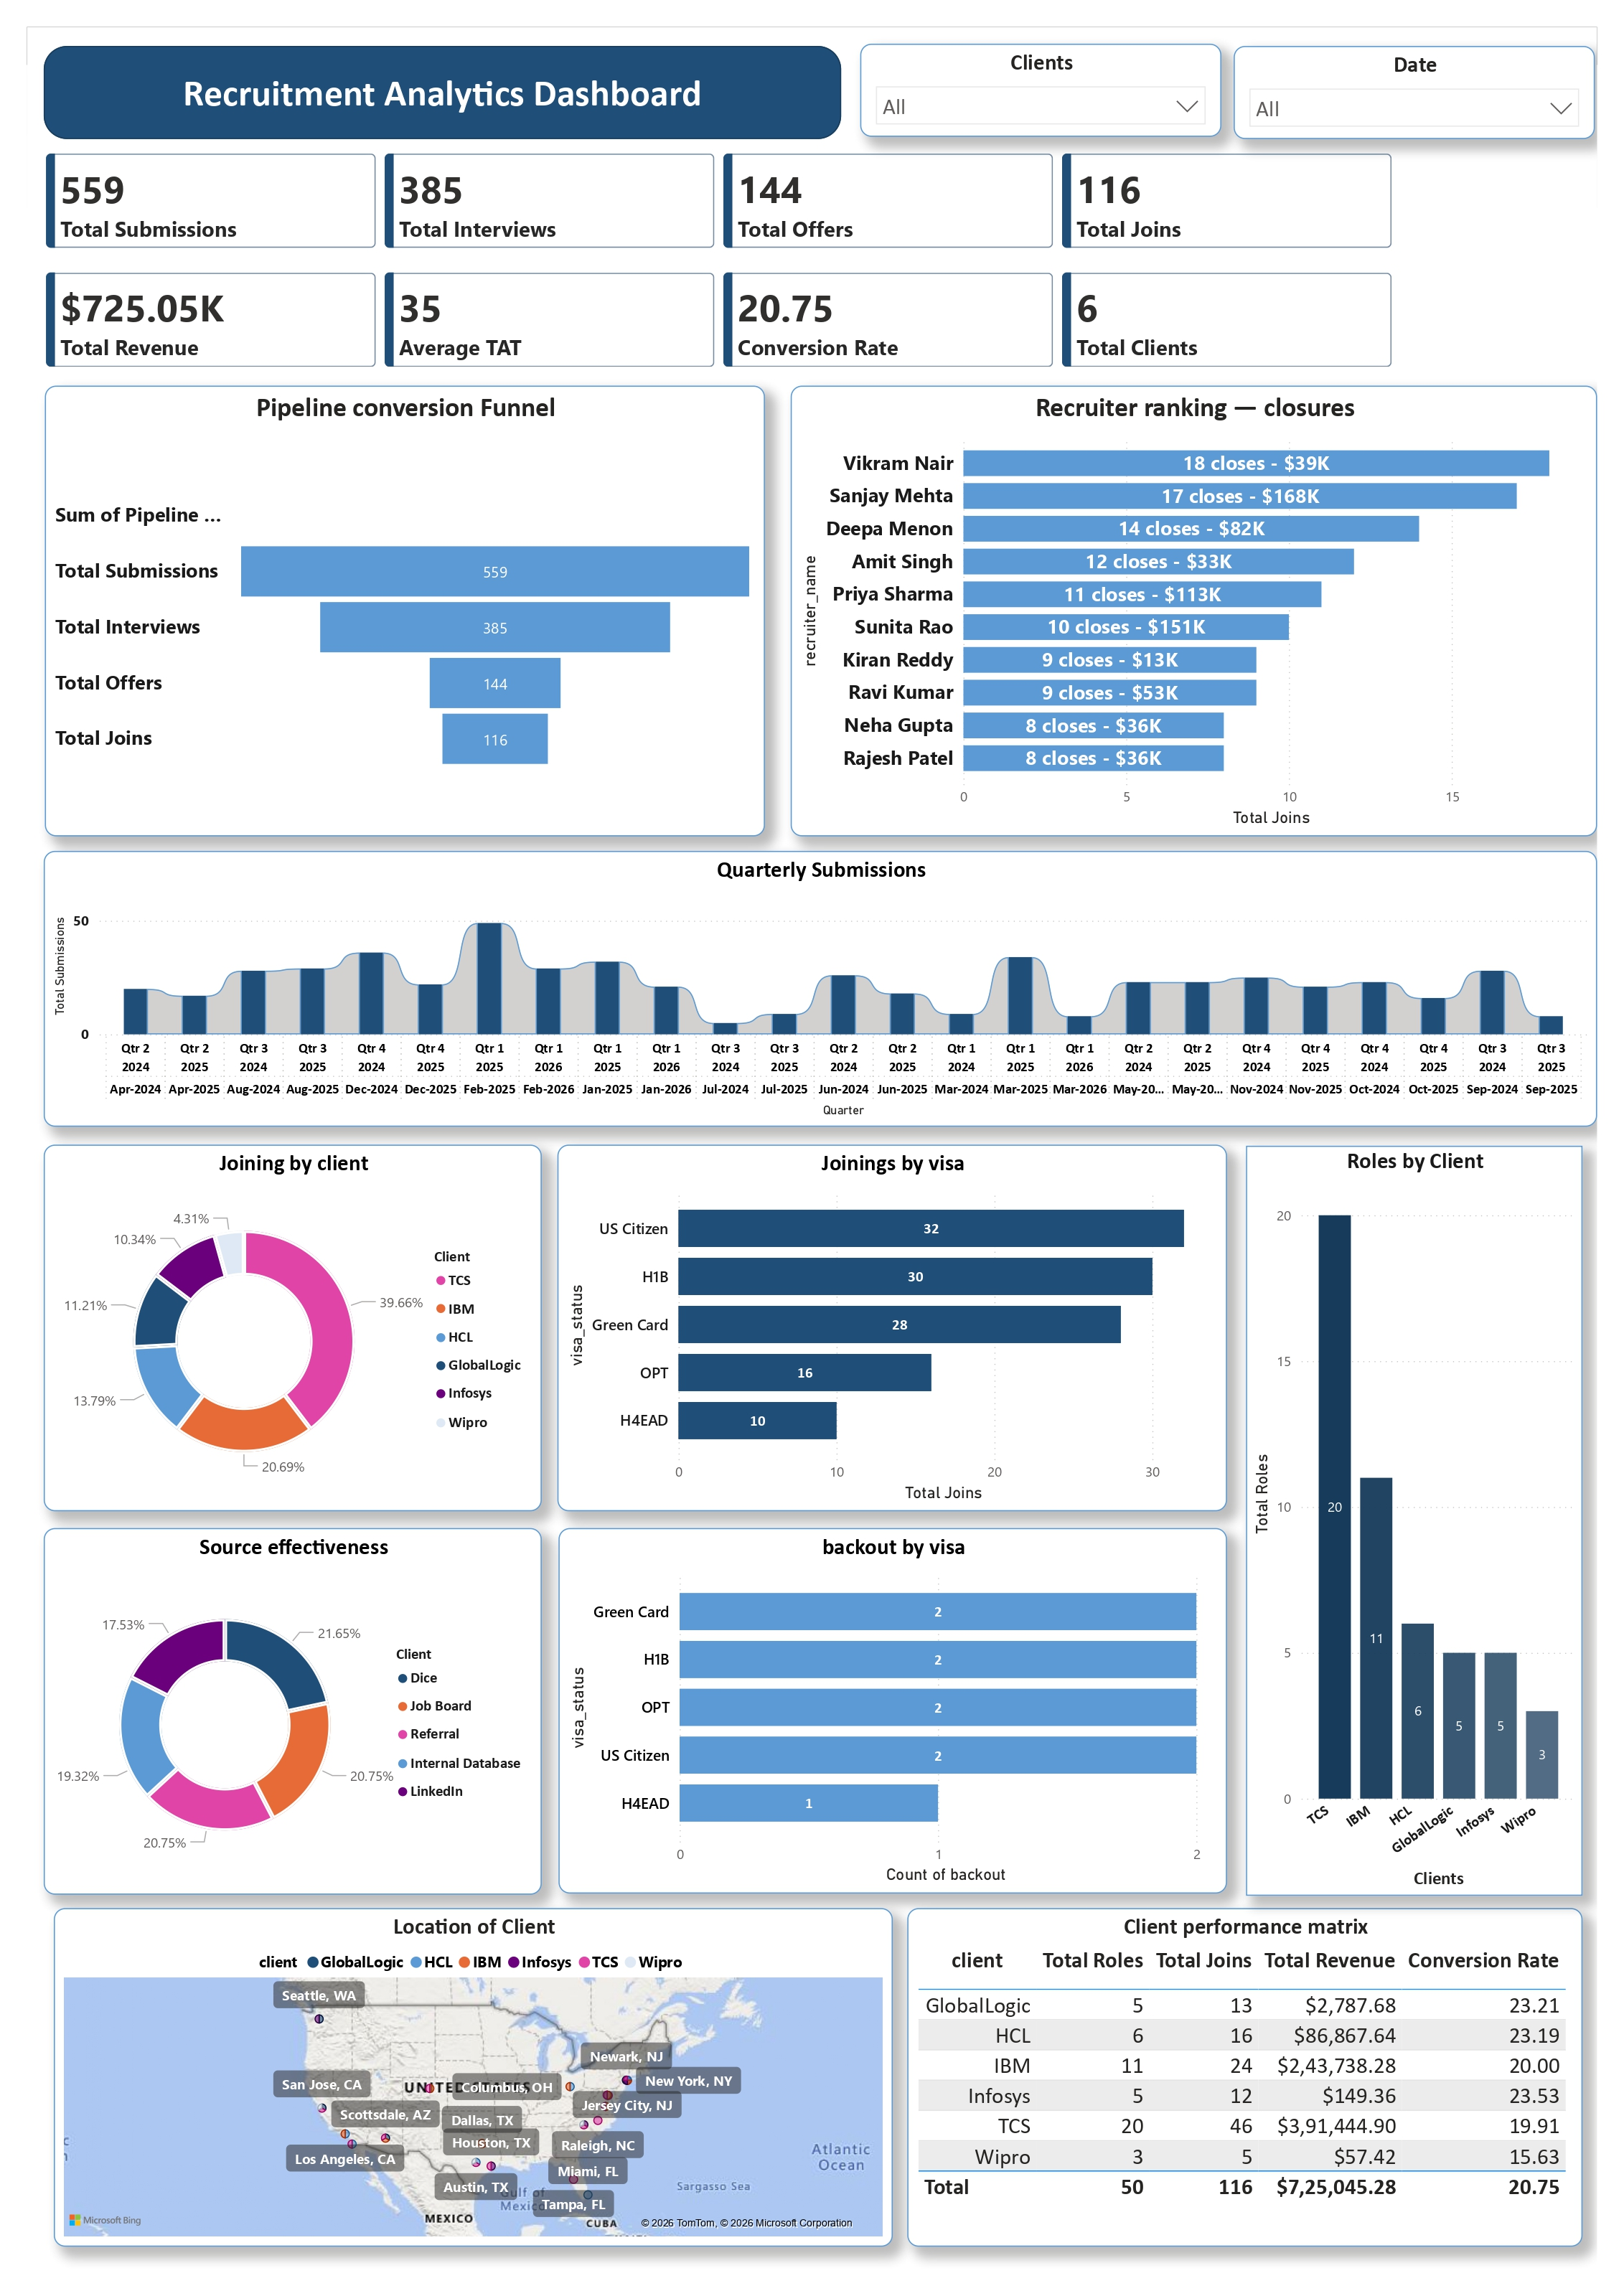

Layout of this report page (visuals, bound fields, positions):
{"tool":"powerbi","page":{"name":"Page 1","canvas":[1400,2000],"ordinal":0},"visuals":[{"type":"cardVisual","fields":{"Data":["Date_Table.Total Submissions","Date_Table.Total Interviews","Date_Table.Total Offers","Date_Table.Total Joins"]},"box":[0,96.3,1237,118.5],"z":0},{"type":"cardVisual","fields":{"Data":["Date_Table.Total Revenue","Date_Table.Average TAT","Date_Table.Conversion Rate","Count(client.client)"]},"box":[0,201.9,1237,118.5],"z":1000},{"type":"funnel","title":"Pipeline conversion Funnel","fields":{"Y":["Sum(Pipeline_Stages.Pipeline Value)","Date_Table.Total Submissions","Date_Table.Total Interviews","Date_Table.Total Offers","Date_Table.Total Joins"]},"box":[15.5,320.1,642.1,401.5],"z":2000},{"type":"clusteredBarChart","title":"Recruiter ranking — closures","fields":{"Y":["Date_Table.Total Joins"],"Category":["recruiter.recruiter_name"]},"box":[680.9,320.1,719.6,401.5],"z":3000},{"type":"ribbonChart","title":"Quarterly Submissions","fields":{"Y":["Date_Table.Total Submissions"],"Category":["candidates_pool.submission_month","Date_Table.Date.Variation.Date Hierarchy.Year","Date_Table.Date.Variation.Date Hierarchy.Quarter"]},"box":[14.8,735.2,1385.2,246.3],"z":4000},{"type":"donutChart","title":"Joining by client","fields":{"Category":["client.client"],"Y":["Date_Table.Total Joins"]},"box":[15.2,997.5,444.3,326.6],"z":5000},{"type":"donutChart","title":"Source effectiveness","fields":{"Y":["Date_Table.Total Submissions"],"Category":["candidates_pool.source"]},"box":[15.2,1339.2,444.3,326.6],"z":6000},{"type":"clusteredBarChart","title":"Joinings by visa","fields":{"Category":["candidates_pool.visa_status"],"Y":["Date_Table.Total Joins"]},"box":[473.4,997.5,596.2,326.6],"z":7000},{"type":"clusteredBarChart","title":"backout by visa","fields":{"Category":["candidates_pool.visa_status"],"Y":["Count(candidates_pool.backout)"]},"box":[474.1,1338.9,596.3,325.9],"z":8000},{"type":"map","title":"Location of Client","fields":{"Series":["client.client"],"Category":["jobs.job_location"]},"box":[24.1,1677.8,748.1,301.9],"z":9000},{"type":"tableEx","title":"Client performance matrix","fields":{"Values":["client.client","Date_Table.Total Roles","Date_Table.Total Joins","Date_Table.Total Revenue","Date_Table.Conversion Rate"]},"box":[785.2,1677.8,601.9,301.9],"z":10000},{"type":"columnChart","title":"Roles by Client","fields":{"Category":["client.client"],"Y":["Date_Table.Total Roles"]},"box":[1087,998.1,300,668.5],"z":11000},{"type":"slicer","title":"Clients","fields":{"Values":["client.client"]},"box":[742.6,14.8,322.2,83.3],"z":12000},{"type":"slicer","title":"Date","fields":{"Values":["Date_Table.Year","Date_Table.Month"]},"box":[1075.9,16.7,322.2,83.3],"z":13000},{"type":"shape","box":[14.8,16.7,711.1,83.3],"z":14000}]}

Visuals, with their boxes on the page's 1400x2000 design canvas (x1, y1, x2, y2). These are canvas units, not pixel positions in the 1624x2296 screenshot, which may show the page scaled, cropped or inside an application window:
cardVisual - Date_Table.Total Submissions x Date_Table.Total Interviews: <bbox>0, 96, 1237, 215</bbox>
cardVisual - Date_Table.Total Revenue x Date_Table.Average TAT: <bbox>0, 202, 1237, 320</bbox>
"Pipeline conversion Funnel" funnel: <bbox>16, 320, 658, 722</bbox>
"Recruiter ranking — closures" clusteredBarChart: <bbox>681, 320, 1400, 722</bbox>
"Quarterly Submissions" ribbonChart: <bbox>15, 735, 1400, 982</bbox>
"Joining by client" donutChart: <bbox>15, 998, 460, 1324</bbox>
"Source effectiveness" donutChart: <bbox>15, 1339, 460, 1666</bbox>
"Joinings by visa" clusteredBarChart: <bbox>473, 998, 1070, 1324</bbox>
"backout by visa" clusteredBarChart: <bbox>474, 1339, 1070, 1665</bbox>
"Location of Client" map: <bbox>24, 1678, 772, 1980</bbox>
"Client performance matrix" tableEx: <bbox>785, 1678, 1387, 1980</bbox>
"Roles by Client" columnChart: <bbox>1087, 998, 1387, 1667</bbox>
"Clients" slicer: <bbox>743, 15, 1065, 98</bbox>
"Date" slicer: <bbox>1076, 17, 1398, 100</bbox>
shape: <bbox>15, 17, 726, 100</bbox>
